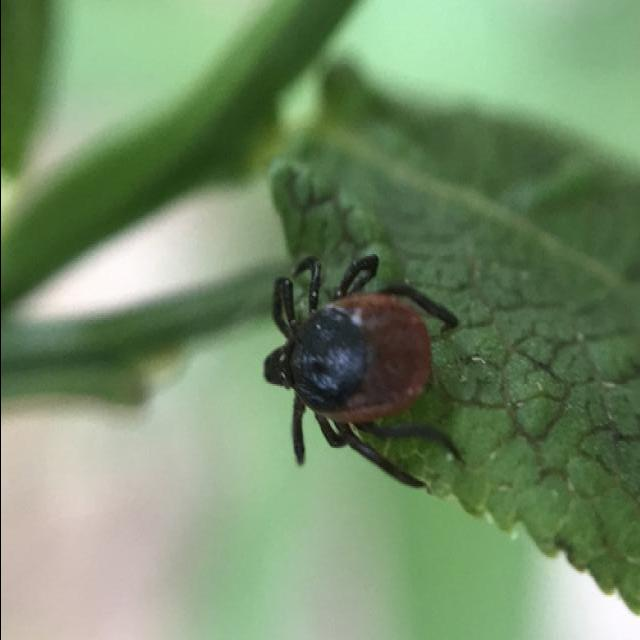Ixodes Ricinus-F: (262, 254, 462, 491)
